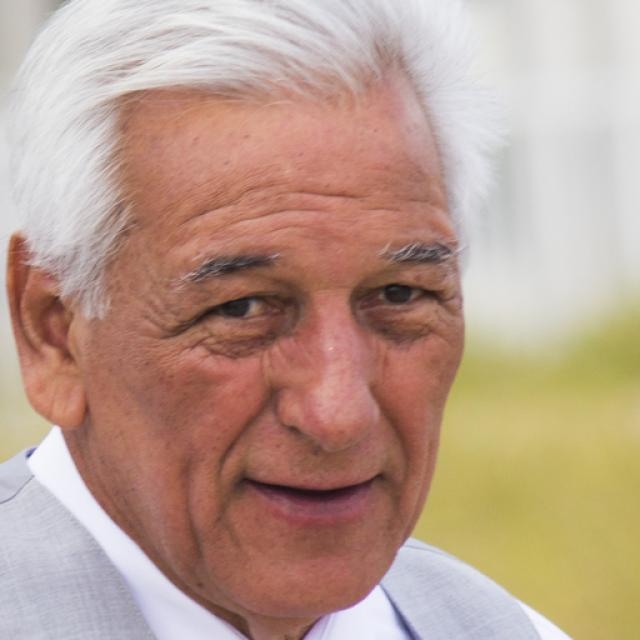Dark Circle: (206, 317, 297, 351), (357, 303, 437, 340)
Wrinkle: (212, 399, 266, 493), (373, 388, 411, 485), (232, 203, 331, 228), (180, 197, 236, 225), (286, 185, 357, 202), (367, 203, 400, 213)
